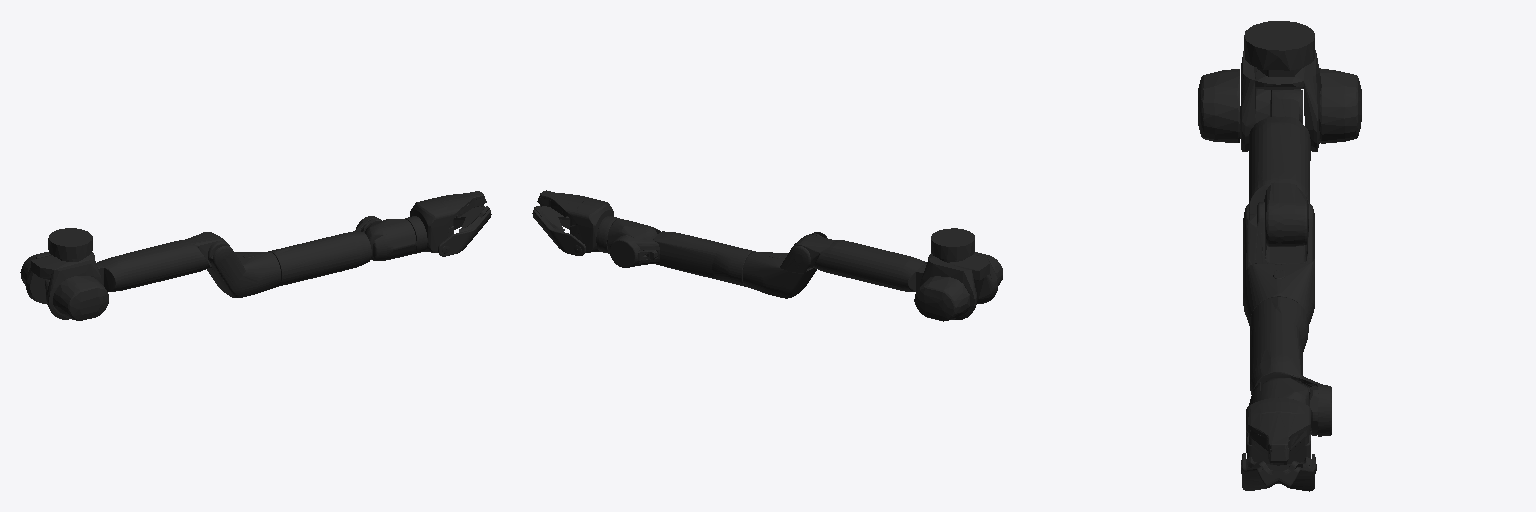
The robot description file, URDF, robot "quadrotor_with_arm":
<?xml version="1.0"?>
<!-- Mesh file and approximate numbers are from [author] at Skydio.  -->
<robot name="quadrotor_with_arm">
  <!--
  Axes are standard vehicle coordinates:
    +X - Pointing toward the nose (primary camera).
    +Y - Towards the left rotors.
    +Z - Towards the top of the vehicle..
  Origin:
    (0, 0, 0) in the center of the main quadrotor body.
  -->
  <link name="quadrotor_link">
    <inertial>
      <mass value="0.775"/>
      <origin xyz="0 0 0"/>
      <inertia ixx="0.0015" ixy="0.0" ixz="0.0" iyy="0.0025" iyz="0.0" izz="0.0035"/>
    </inertial>
    <visual>
      <origin rpy="1.570796 0 0" xyz="0 0 0"/>
      <geometry>
        <mesh filename="package://aerial_grasping/assets/skydio_2/skydio_2_1000_poly.gltf" scale=".00254"/>
      </geometry>
    </visual>
  </link>

  <link name="arm_link_sh0">
    <visual>
      <origin xyz="0 0 0" rpy="0 0 0"/>
      <geometry>
        <mesh filename="package://aerial_grasping/assets/spot/visual/arm_link_sh0.obj" scale="0.6 0.6 0.6"/>
      </geometry>
      <material name="arm_link_sh0"> <color rgba="0.2 0.2 0.2 1"/></material>  
    </visual>
    <inertial>
      <origin rpy="0.0013490340912847287 -0.15433618253071657 0.0066354181456347305" xyz="-0.012372709810733795 -4.5211403630673885e-05 -0.02103196457028389"/>
      <mass value=".23364000000000003"/>
      <inertia ixx="0.009014303010689815" ixy="0.0" ixz="0.0" iyy="0.005835102417829581" iyz="0.0" izz="0.00778747846359954"/>
    </inertial>
  </link>
  <joint name="arm_sh0" type="revolute">
    <origin xyz="-0.02 0.0 -0.06" rpy="0 3.14 3.14"/>
    <axis xyz="0 0 1"/>
    <parent link="quadrotor_link"/>
    <child link="arm_link_sh0"/>
    <limit effort="1000" velocity="1000.00" lower="-2.61799387799149441136" upper="3.14159265358979311599"/>
  </joint>
  <transmission name="arm_sh0_transmission">
    <type>transmission_interface/SimpleTransmission</type>
    <joint name="arm_sh0">
      <hardwareInterface>VelocityJointInterface</hardwareInterface>
    </joint>
    <actuator name="arm_sh0_motor">
      <hardwareInterface>VelocityJointInterface</hardwareInterface>
      <mechanicalReduction>1</mechanicalReduction>
    </actuator>
  </transmission>

  <link name="arm_link_sh1">
    <visual>
      <origin xyz="0 0 0" rpy="0 0 0"/>
      <geometry>
        <mesh filename="package://aerial_grasping/assets/spot/visual/arm_link_sh1.obj" scale="0.6 0.6 0.6"/>
      </geometry>
      <material name="arm_link_sh1"> <color rgba="0.2 0.2 0.2 1"/></material>
    </visual>
    <inertial>
      <origin rpy="0.009910032200701302 -0.5123007314267984 0.002209016500439809" xyz="2.4176391889341176e-05 2.4116111490002368e-06 -1.0059113265015185e-05"/>
      <mass value="0.02596"/>
      <inertia ixx="0.00020292766231464653" ixy="0.0" ixz="0.0" iyy="0.00017078637725384855" iyz="0.0" izz="0.00020384964230406682"/>
    </inertial>
  </link>
  <joint name="arm_sh1" type="revolute">
    <origin xyz="0.0 0.0 0.0" rpy="0 0 0"/>
    <axis xyz="0 1 0"/>
    <parent link="arm_link_sh0"/>
    <child link="arm_link_sh1"/>
    <!-- <limit effort="1000" velocity="1000.00" lower="-0.52359877559829881565" upper="3.14159265358979311599"/> -->
    <limit effort="1000" velocity="1000.00" lower="-3.14159265358979311599" upper="0.52359877559829881565"/>
  </joint>
  <transmission name="arm_sh1_transmission">
    <type>transmission_interface/SimpleTransmission</type>
    <joint name="arm_sh1">
      <hardwareInterface>VelocityJointInterface</hardwareInterface>
    </joint>
    <actuator name="arm_sh1_motor">
      <hardwareInterface>VelocityJointInterface</hardwareInterface>
      <mechanicalReduction>1</mechanicalReduction>
    </actuator>
  </transmission>
  
  <link name="arm_link_hr0">
    <visual>
      <origin xyz="0 0 0" rpy="0 0 0"/>
      <geometry>
        <mesh filename="package://aerial_grasping/assets/spot/visual/arm_link_hr0.obj" scale="0.6 0.6 0.6"/>
      </geometry>
      <material name="arm_link_hr0"> <color rgba="0.2 0.2 0.2 1"/></material> 
    </visual>
    <inertial>
      <origin rpy="-0.01179850657706405 0.0002834144901480151 -0.02372295500868482" xyz="0.17047011852264404 -0.0019251034827902913 4.483893280848861e-05"/>
      <mass value="1e-06"/>
      <inertia ixx="6.312631747339145e-10" ixy="0.0" ixz="0.0" iyy="1.1487063558949979e-08" iyz="0.0" izz="1.161105128440526e-08"/>
    </inertial>
  </link>
  <joint name="arm_hr0" type="fixed">
    <origin xyz="0.0 0.0 0.0" rpy="0 0 0"/>
    <axis xyz="1 0 0"/>
    <parent link="arm_link_sh1"/>
    <child link="arm_link_hr0"/>
    <limit effort="1000" velocity="1000.00" lower="-1e6" upper="1e6"/>
  </joint>

  <link name="arm_link_el0">
    <visual>
      <origin xyz="0 0 0" rpy="0 0 0"/>
      <geometry>
        <mesh filename="package://aerial_grasping/assets/spot/visual/arm_link_el0.obj" scale="0.6 0.6 0.6"/>
      </geometry>
      <material name="arm_link_el0"> <color rgba="0.2 0.2 0.2 1"/></material>  
    </visual>
    <inertial>
      <origin rpy="-0.004185887288594259 -0.6136269547775202 -0.0004619387581783485" xyz="0.0553741455078125 0.00023603376757819206 0.04827198013663292"/>
      <mass value="0.0725"/>
      <inertia ixx="0.0008215365829160558" ixy="0.0" ixz="0.0" iyy="0.0020047889807066404" iyz="0.0" izz="0.0019722797759789395"/>
    </inertial>
  </link>
  <joint name="arm_el0" type="revolute">
    <origin xyz="0.2031 0 0" rpy="0 0 0"/>
    <axis xyz="0 1 0"/>
    <parent link="arm_link_hr0"/>
    <child link="arm_link_el0"/>
    <limit effort="1000" velocity="1000.00" lower="0" upper="3.14159265358979311599"/>
  </joint>
  <transmission name="arm_el0_transmission">
    <type>transmission_interface/SimpleTransmission</type>
    <joint name="arm_el0">
      <hardwareInterface>VelocityJointInterface</hardwareInterface>
    </joint>
    <actuator name="arm_el0_motor">
      <hardwareInterface>VelocityJointInterface</hardwareInterface>
      <mechanicalReduction>1</mechanicalReduction>
    </actuator>
  </transmission>

  <link name="arm_link_el1">
    <visual>
      <origin xyz="0 0 0" rpy="0 0 0"/>
      <geometry>
        <mesh filename="package://aerial_grasping/assets/spot/visual/arm_link_el1.obj" scale="0.6 0.6 0.6"/>
      </geometry>
      <material name="arm_link_el1"> <color rgba="0.2 0.2 0.2 1"/></material>
    </visual>
    <inertial>
      <origin rpy="-0.15027374227250867 -0.0007874585461915551 0.003728225436950172" xyz="-0.1257835328578949 -0.013684478588402271 0.00010157923679798841"/>
      <mass value="0.0725"/>
      <inertia ixx="0.0006254807525240598" ixy="0.0" ixz="0.0" iyy="0.004402454711936095" iyz="0.0" izz="0.004515915146038191"/>
    </inertial>
  </link>
  <joint name="arm_el1" type="revolute">
    <origin xyz="0.242 0.0 0.0450" rpy="0 0 0"/>
    <axis xyz="1 0 0"/>
    <parent link="arm_link_el0"/>
    <child link="arm_link_el1"/>
    <limit effort="1000" velocity="1000.00" lower="-2.79252680319092716487" upper="2.79252680319092716487"/>
  </joint>
  <transmission name="arm_el1_transmission">
    <type>transmission_interface/SimpleTransmission</type>
    <joint name="arm_el1">
      <hardwareInterface>VelocityJointInterface</hardwareInterface>
    </joint>
    <actuator name="arm_el1_motor">
      <hardwareInterface>VelocityJointInterface</hardwareInterface>
      <mechanicalReduction>1</mechanicalReduction>
    </actuator>
  </transmission>

  <link name="arm_link_wr0">
    <visual>
      <origin xyz="0 0 0" rpy="0 0 0"/>
      <geometry>
        <mesh filename="package://aerial_grasping/assets/spot/visual/arm_link_wr0.obj" scale="0.6 0.6 0.6"/>
      </geometry>
      <material name="arm_link_wr0"> <color rgba="0.2 0.2 0.2 1"/></material>
    </visual>
    <inertial>
      <origin rpy="-0.4951534907966386 0.0033720434077784134 0.020027599337697932" xyz="0.008210677653551102 -0.012051000259816647 3.143483627354726e-05"/>
      <mass value="0.098"/>
      <inertia ixx="0.0009851320696685427" ixy="0.0" ixz="0.0" iyy="0.0008916145765810678" iyz="0.0" izz="0.0012354892751854467"/>
    </inertial>
  </link>
  <joint name="arm_wr0" type="revolute">
    <origin xyz="0.0 0.0 0.0" rpy="0 0 0"/>
    <axis xyz="0 1 0"/>
    <parent link="arm_link_el1"/>
    <child link="arm_link_wr0"/>
    <limit effort="1000" velocity="1000.00" lower="-1.83259571459404613236" upper="1.83259571459404613236"/>
  </joint>
  <transmission name="arm_wr0_transmission">
    <type>transmission_interface/SimpleTransmission</type>
    <joint name="arm_wr0">
      <hardwareInterface>VelocityJointInterface</hardwareInterface>
    </joint>
    <actuator name="arm_wr0_motor">
      <hardwareInterface>VelocityJointInterface</hardwareInterface>
      <mechanicalReduction>1</mechanicalReduction>
    </actuator>
  </transmission>

  <link name="arm_link_wr1">
    <visual>
      <origin xyz="0 0 0" rpy="0 0 0"/>
      <geometry>
        <mesh filename="package://aerial_grasping/assets/spot/visual/arm_link_wr1.obj" scale="0.6 0.6 0.6"/>
      </geometry>
      <material name="arm_link_wr1"> <color rgba="0.2 0.2 0.2 1"/></material>
    </visual>
    <inertial>
      <origin rpy="0.006393076449033863 0.2928526604761865 -0.022814984050994802" xyz="0.12516802549362183 0.00010137435310753062 -0.013997982256114483"/>
      <mass value="0.0785"/>
      <inertia ixx="0.00076741362048185" ixy="0.0" ixz="0.0" iyy="0.0017628124054271809" iyz="0.0" izz="0.0016818105865345951"/>
    </inertial>
  </link>
  <joint name="arm_wr1" type="revolute">
    <origin xyz="0.0 0.0 0.0" rpy="0 0 0"/>
    <axis xyz="1 0 0"/>
    <parent link="arm_link_wr0"/>
    <child link="arm_link_wr1"/>
    <limit effort="1000" velocity="1000.00" lower="-2.87979326579064354163" upper="2.87979326579064354163"/>
  </joint>
  <transmission name="arm_sh0_transmission">
    <type>transmission_interface/SimpleTransmission</type>
    <joint name="arm_wr1">
      <hardwareInterface>VelocityJointInterface</hardwareInterface>
    </joint>
    <actuator name="arm_wr1_motor">
      <hardwareInterface>VelocityJointInterface</hardwareInterface>
      <mechanicalReduction>1</mechanicalReduction>
    </actuator>
  </transmission>
  
  <link name="arm_link_fngr">
    <visual>
      <origin xyz="0 0 0" rpy="0 0 0"/>
      <geometry>
        <mesh filename="package://aerial_grasping/assets/spot/visual/arm_link_fngr.obj" scale="0.6 0.6 0.6"/>
      </geometry>
      <material name="arm_link_fngr"> <color rgba="0.2 0.2 0.2 1"/></material>
    </visual>
    <inertial>
      <origin rpy="0.0003416659657240473 0.3751670012784243 -0.004058661249495721" xyz="0.04787873849272728 -0.00020676758140325546 -0.01628788933157921"/>
      <mass value="0.02"/>
      <inertia ixx="0.0001439963634171048" ixy="0.0" ixz="0.0" iyy="0.0003007126997998294" iyz="0.0" izz="0.0003912783268020657"/>
    </inertial>
  </link>
  <joint name="arm_f1x" type="revolute">
    <origin xyz="0.0705 0 0.014820" rpy="0 0 0"/>
    <axis xyz="0.0 1.0 0.0"/>
    <parent link="arm_link_wr1"/>
    <child link="arm_link_fngr"/>
    <limit effort="1000" velocity="1000.00" lower="-1.57" upper="0.0"/>
  </joint>
  <transmission name="arm_f1x_transmission">
    <type>transmission_interface/SimpleTransmission</type>
    <joint name="arm_f1x">
      <hardwareInterface>VelocityJointInterface</hardwareInterface>
    </joint>
    <actuator name="arm_f1x_motor">
      <hardwareInterface>VelocityJointInterface</hardwareInterface>
      <mechanicalReduction>1</mechanicalReduction>
    </actuator>
  </transmission>
</robot>

--- Facts derived from the render (not from the file) ---
The picture shows the robot from 3 angles, left to right: view 1: azimuth 30°, elevation 25°; view 2: azimuth 150°, elevation 25°; view 3: azimuth 270°, elevation 25°; orthographic projection.
Model quadrotor_with_arm with 9 links and 8 joints (7 revolute, 1 fixed), rooted at quadrotor_link, posed all joints at 0.
Links seen in each view (by area): view 1: arm_link_sh0, arm_link_sh1, arm_link_el1, arm_link_el0, arm_link_wr1, arm_link_wr0, arm_link_fngr; view 2: arm_link_sh0, arm_link_el1, arm_link_sh1, arm_link_el0, arm_link_wr1, arm_link_fngr, arm_link_wr0; view 3: arm_link_sh0, arm_link_sh1, arm_link_el0, arm_link_el1, arm_link_wr1, arm_link_fngr, arm_link_wr0.
Boxes of the visible links, <box> form: arm_link_sh0: <box>20,228,108,320</box>; arm_link_sh1: <box>96,232,226,291</box>; arm_link_el1: <box>269,216,381,286</box>; arm_link_el0: <box>201,232,280,297</box>; arm_link_wr1: <box>405,191,486,253</box>; arm_link_wr0: <box>361,219,416,260</box>; arm_link_fngr: <box>438,205,491,256</box>; arm_link_sh0: <box>914,228,1002,321</box>; arm_link_el1: <box>610,231,754,286</box>; arm_link_sh1: <box>791,234,926,291</box>; arm_link_el0: <box>743,232,826,298</box>; arm_link_wr1: <box>537,190,619,253</box>; arm_link_fngr: <box>532,205,585,255</box>; arm_link_wr0: <box>607,219,660,251</box>; arm_link_sh0: <box>1198,21,1361,151</box>; arm_link_sh1: <box>1249,89,1310,246</box>; arm_link_el0: <box>1243,202,1314,325</box>; arm_link_el1: <box>1250,297,1331,436</box>; arm_link_wr1: <box>1246,397,1311,483</box>; arm_link_fngr: <box>1241,453,1316,491</box>; arm_link_wr0: <box>1249,378,1317,435</box>.
Bounding box of the posed robot: 0.6382 × 0.1264 × 0.1349 m (x, y, z).
7 mesh visuals loaded from 9 distinct referenced files (7 OBJ); not drawn: 2 (reference not matched to a file when rendering).
